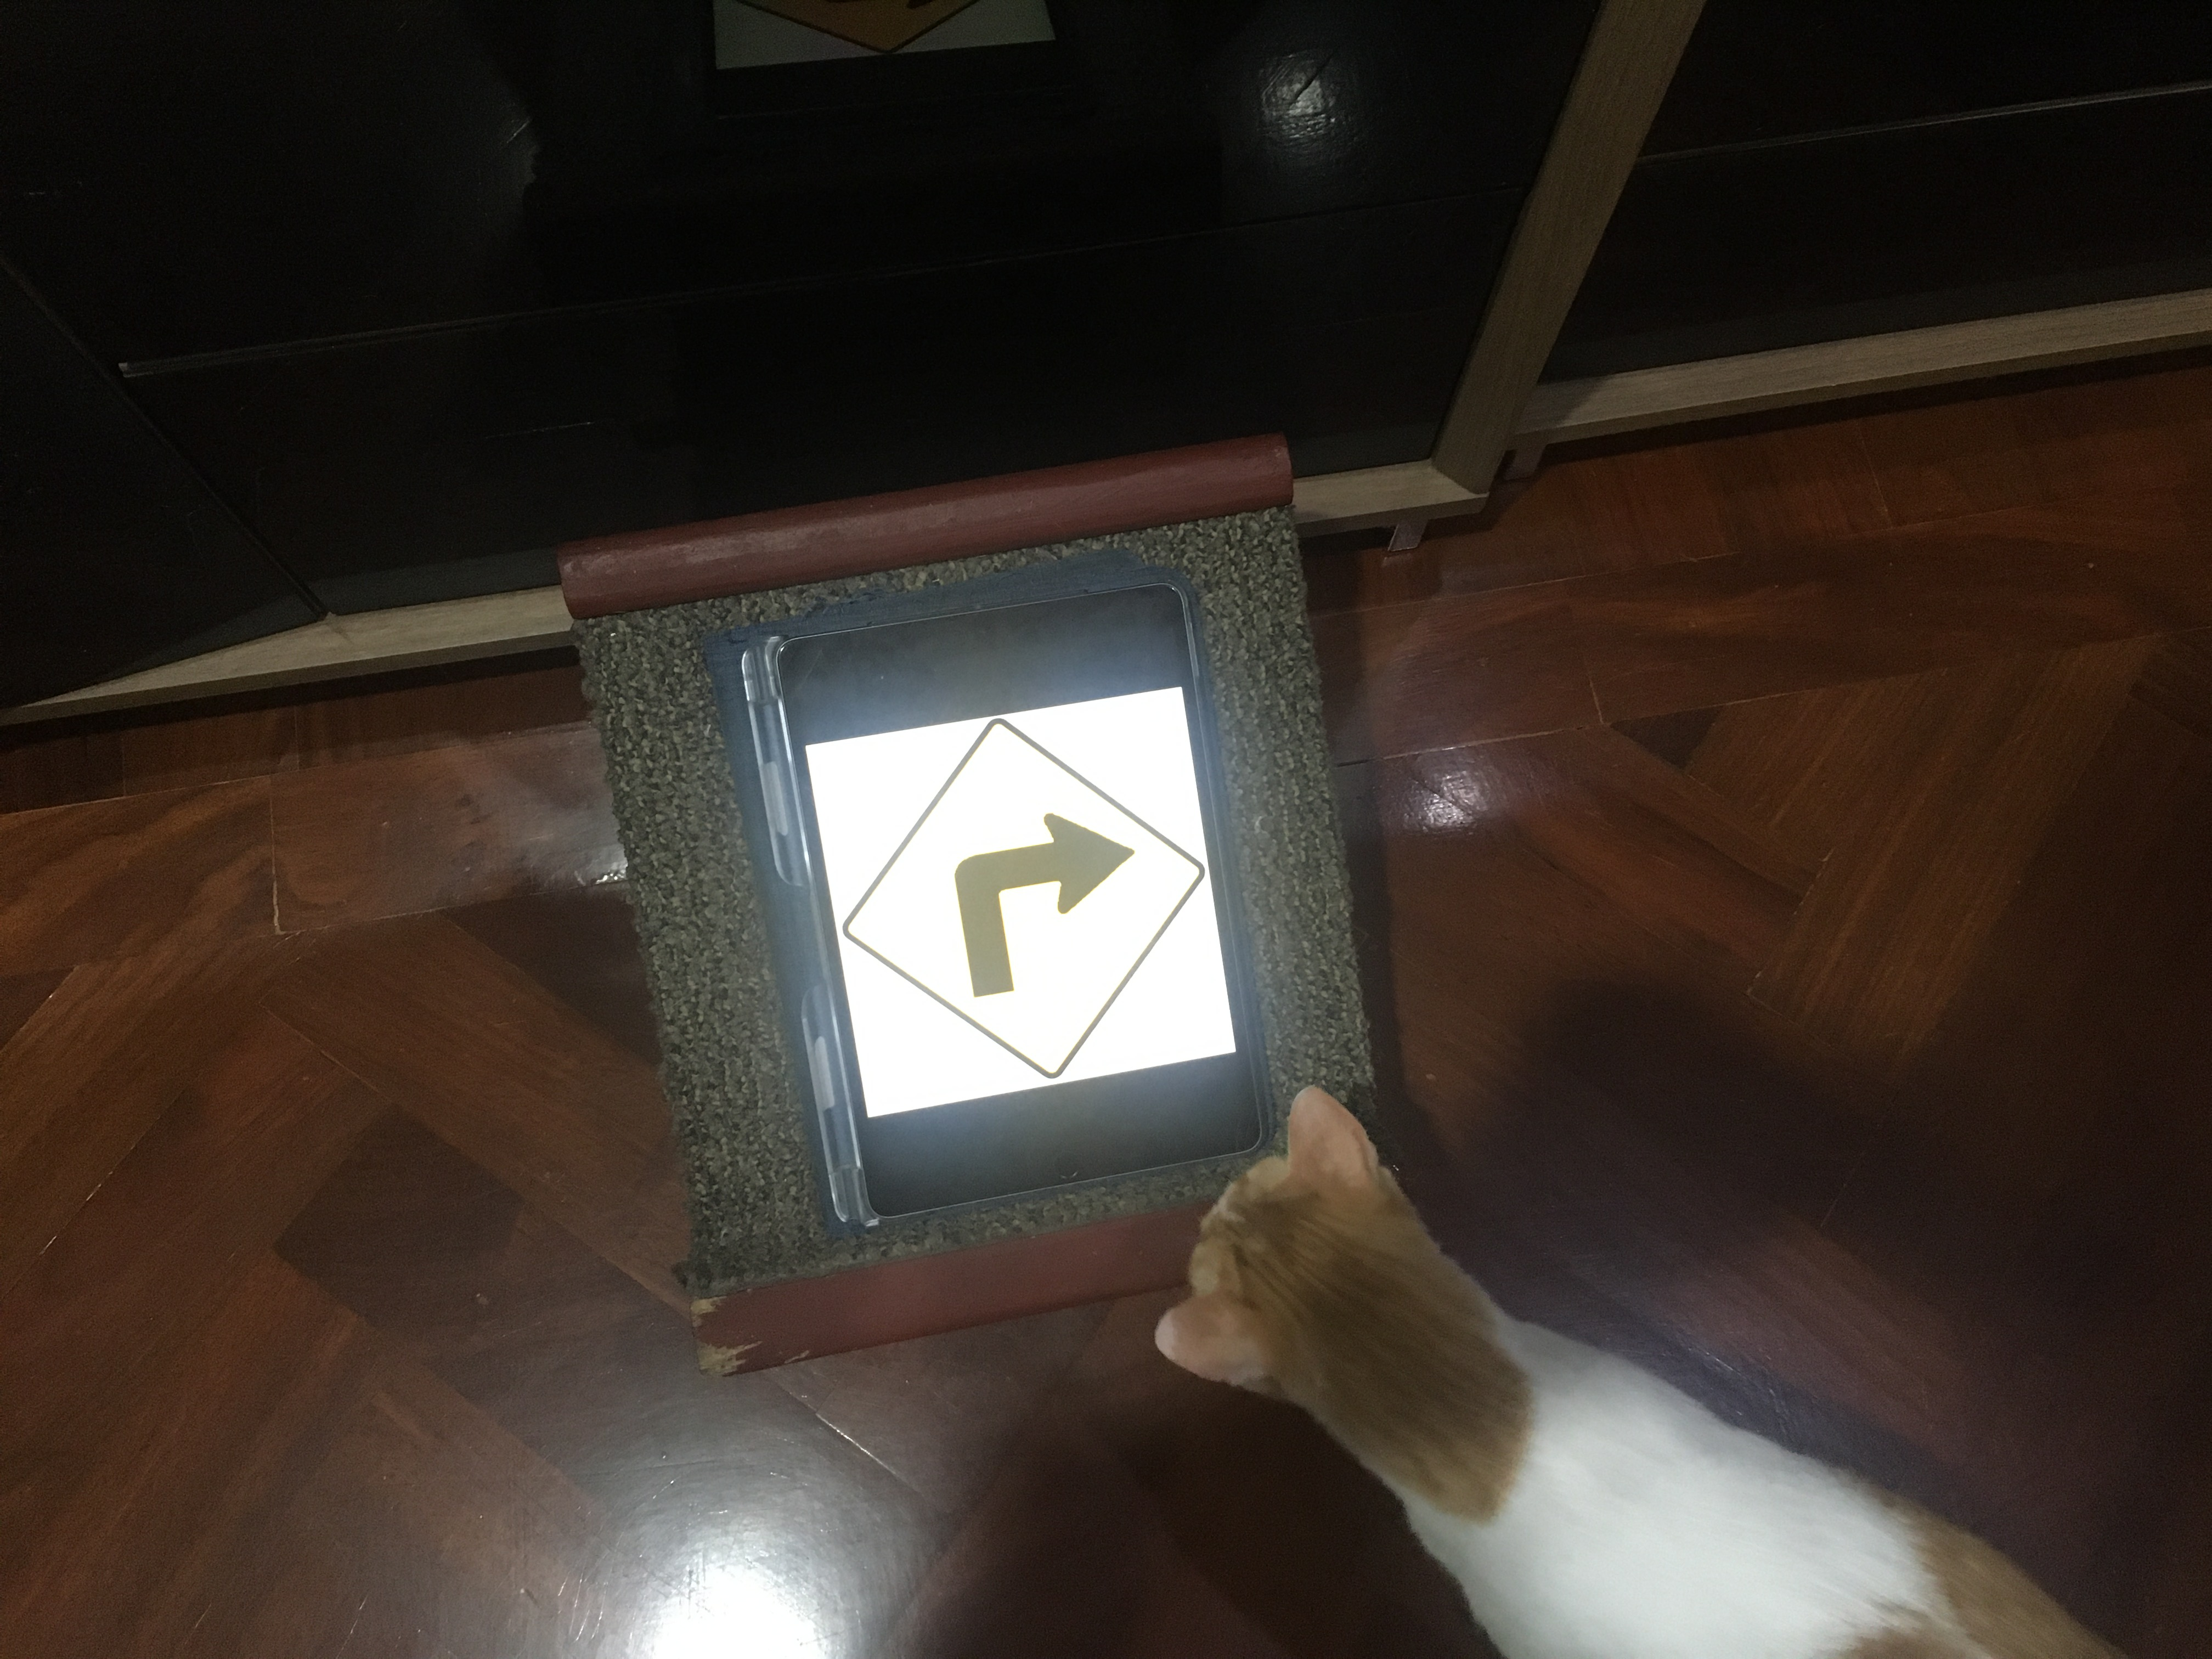right: (822, 713, 1228, 1087)
